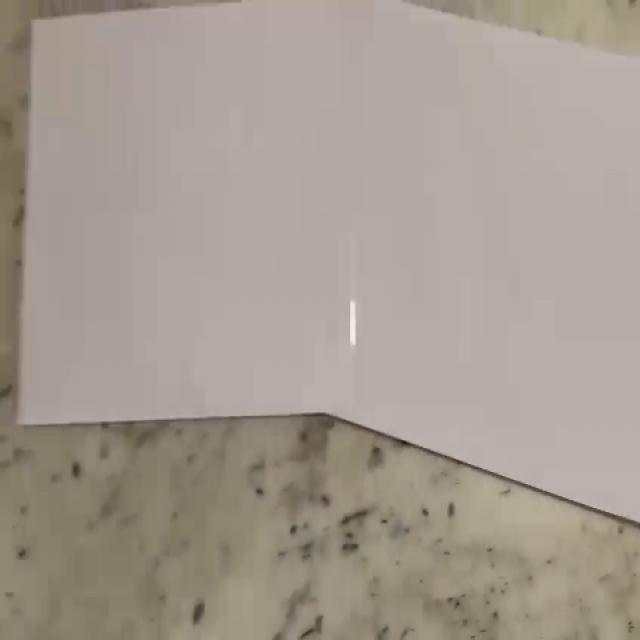road: (12, 0, 640, 525)
